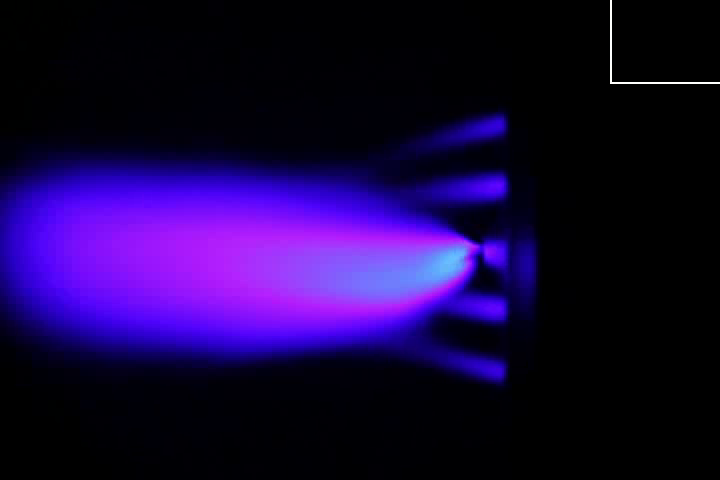burner cap: (482, 238, 512, 274)
pilot flame: (376, 112, 505, 151), (380, 172, 509, 208), (404, 341, 508, 384), (447, 291, 511, 326)
stable: (37, 193, 479, 312)
